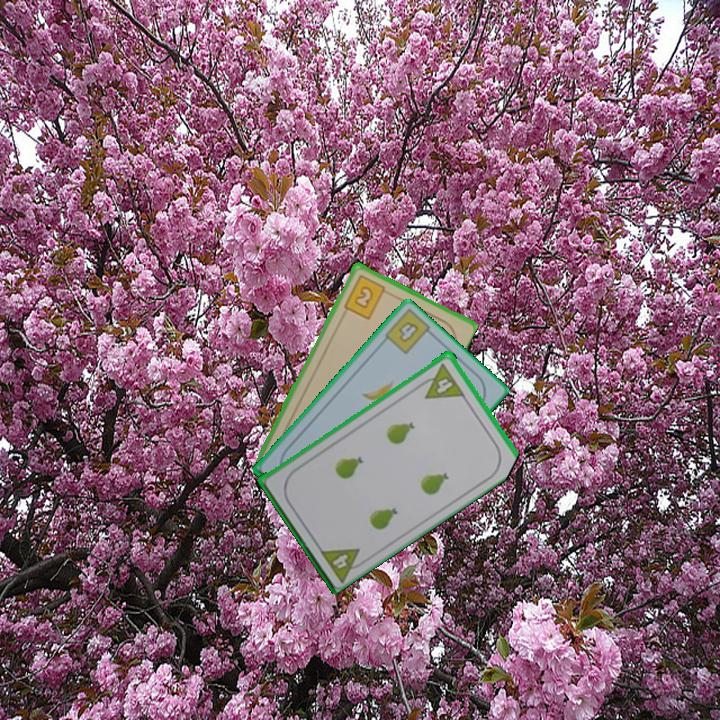2b: (340, 271, 393, 322)
4b: (395, 317, 422, 345)
4p: (415, 359, 467, 402), (316, 544, 370, 584)
